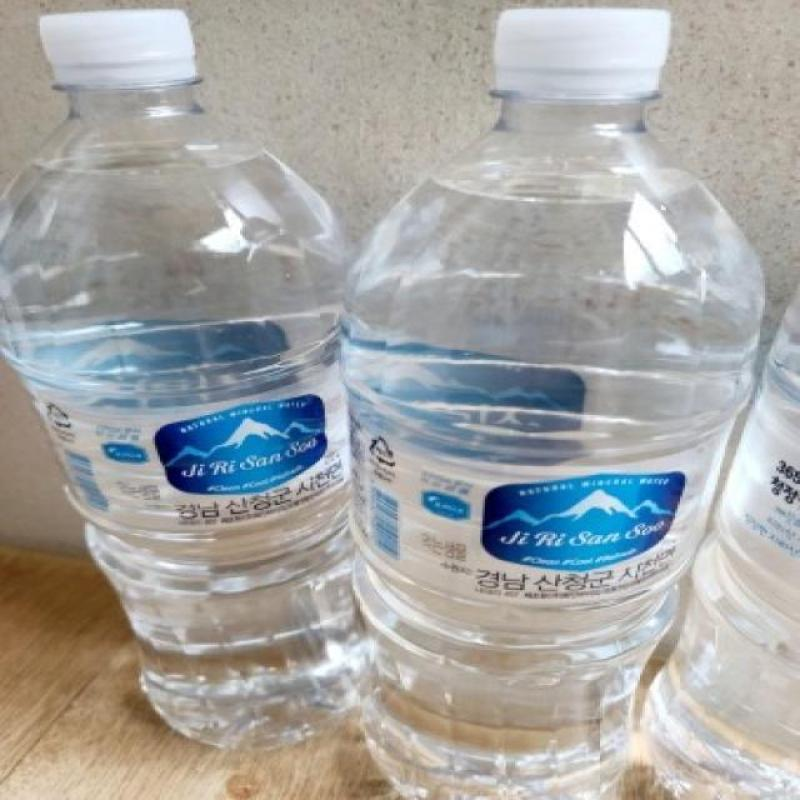botella: (340, 7, 766, 800), (0, 11, 371, 751), (636, 272, 800, 800)
